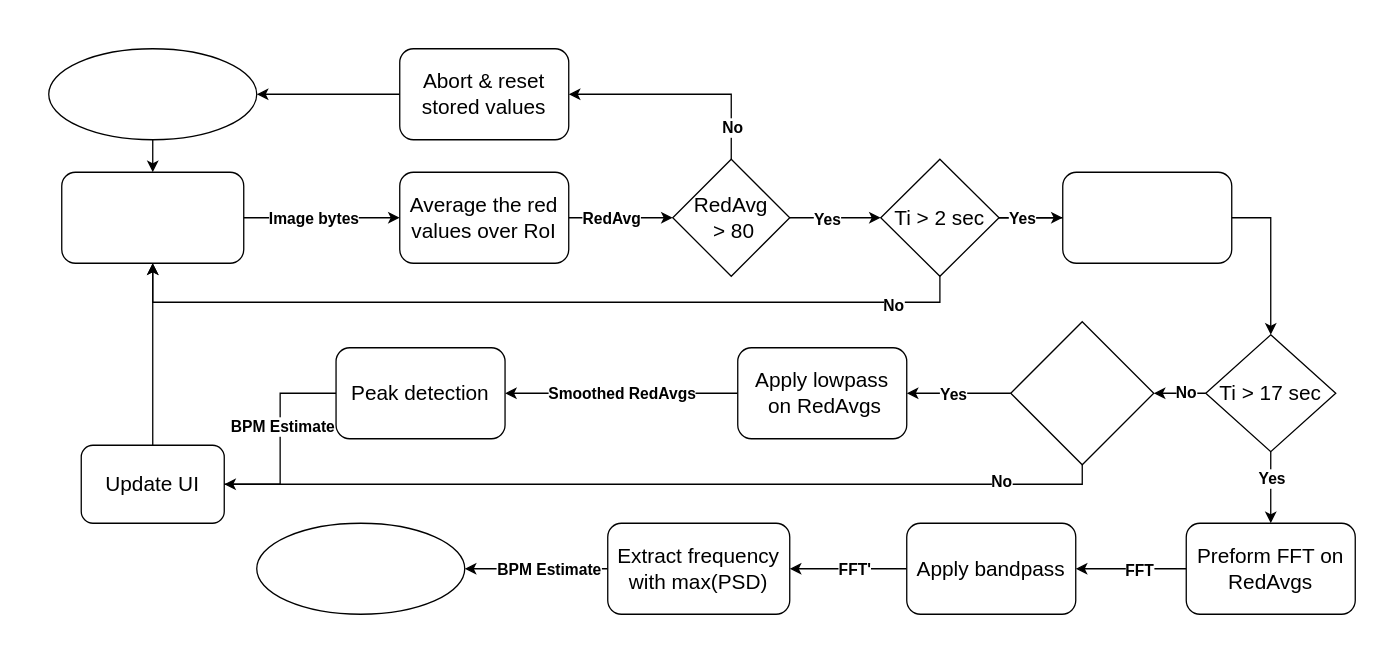
The diagram is 1396 pixels wide and 668 high, and some of its shapes have lost their labels. Here are the shapes that lost their labels. From the top down, the box of each, then its label:
(47, 47, 257, 140): Start Measurement
(60, 171, 244, 263): OnPreviewFrame
(1061, 171, 1232, 263): Store RedAvg & timestamp Ti
(1009, 320, 1154, 465): mod(f, 60) == 0
(255, 522, 465, 614): Show results on UI
